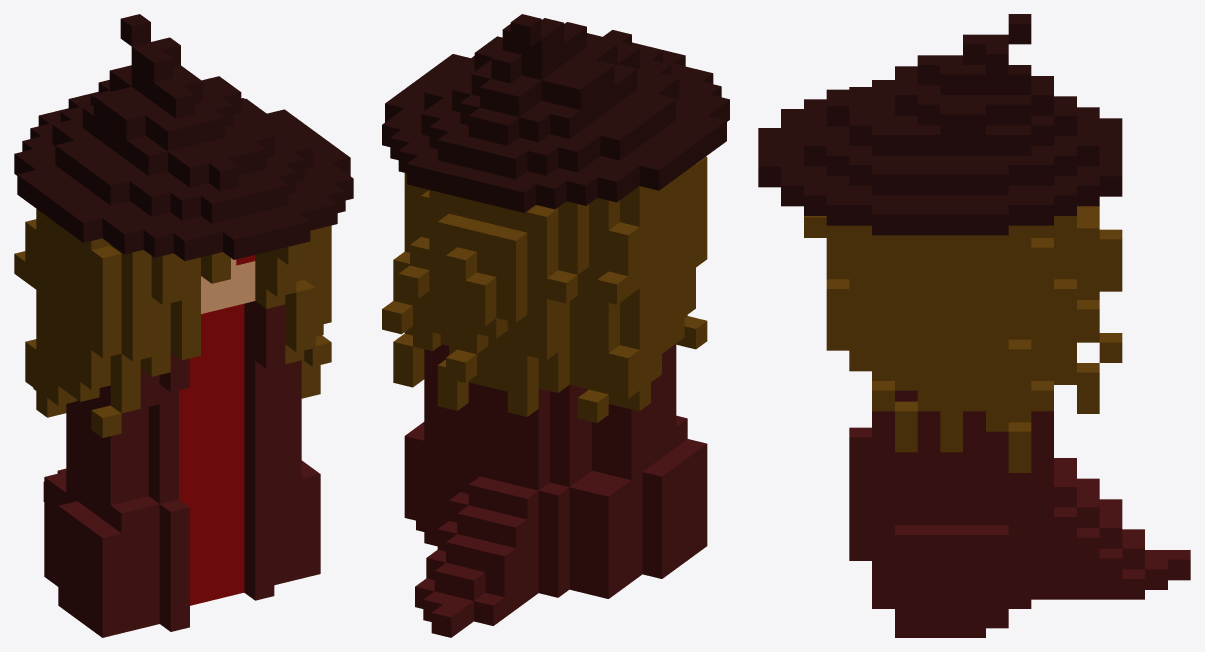
File: Bruxa 02 - Andando-03.obj
3 renders of one model, left to right at view 1: azimuth 30°, elevation 25°; view 2: azimuth 150°, elevation 25°; view 3: azimuth 270°, elevation 25°, orthographic. The views are drawn at different scales.
Size of the model in its own units: 14 by 27 by 19.
Materials: 1 (1 with a texture image).
